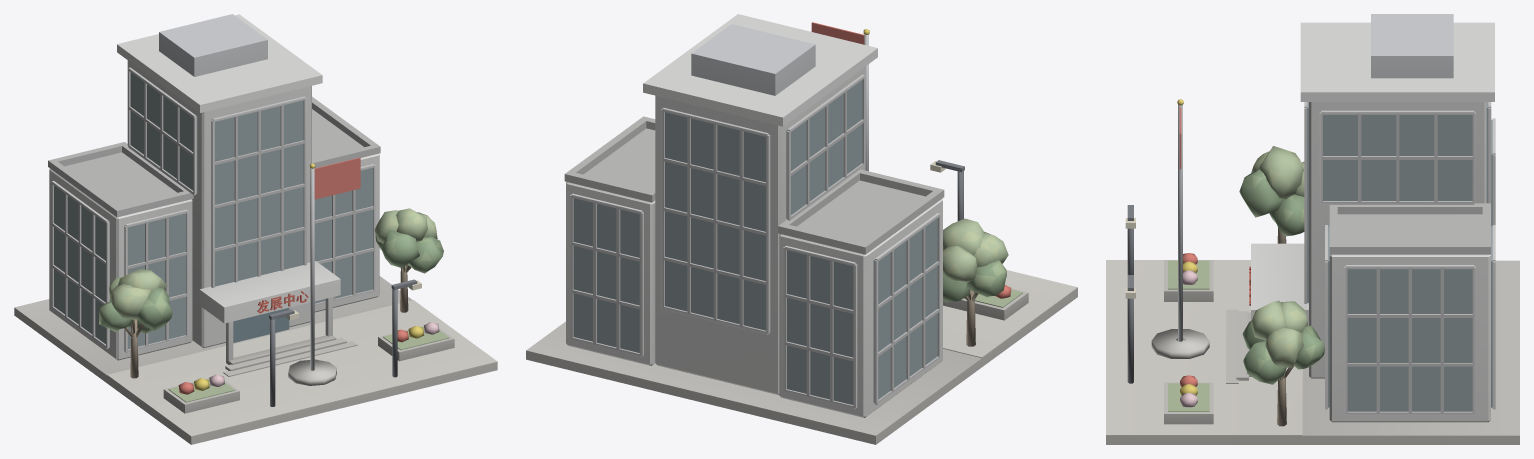
File: center-county.glb
The picture shows the model from 3 angles, left to right: view 1: azimuth 30°, elevation 25°; view 2: azimuth 150°, elevation 25°; view 3: azimuth 270°, elevation 25°; orthographic projection. The views are drawn at different scales.
Parts seen in each view (by area): view 1: center-county; view 2: center-county; view 3: center-county.
Boxes of the visible parts, x1,y1,x2,y2 form: center-county: [14, 14, 497, 444]; center-county: [526, 14, 1077, 444]; center-county: [1106, 14, 1519, 444].
Bounding box in the file's own units: 2.18 × 1.72 × 2.
